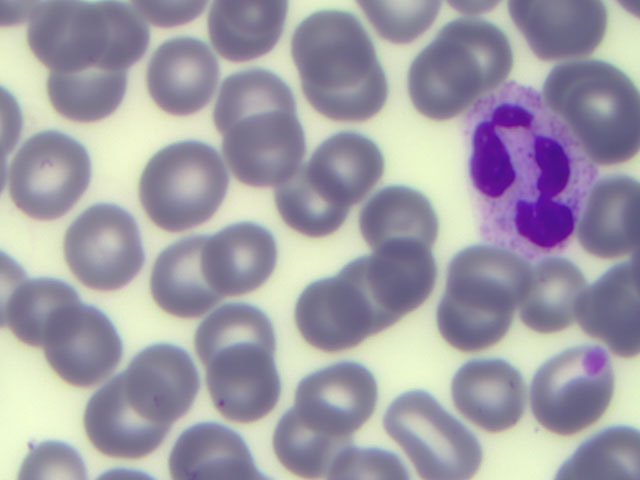RBC: (73, 209, 144, 301), (390, 402, 478, 476), (309, 51, 389, 127), (140, 148, 219, 222), (81, 385, 163, 456), (193, 311, 275, 380), (205, 348, 278, 425), (224, 70, 296, 147), (49, 308, 119, 385), (278, 161, 349, 234), (19, 139, 86, 216), (150, 40, 217, 117), (165, 424, 257, 480), (300, 10, 366, 88), (294, 280, 366, 351), (549, 63, 633, 122), (446, 250, 525, 312), (206, 221, 276, 290), (151, 241, 215, 316), (130, 347, 197, 418), (570, 86, 640, 153), (364, 192, 440, 253), (280, 411, 349, 477), (440, 23, 509, 88), (437, 282, 508, 345), (51, 56, 119, 121), (462, 362, 526, 430), (230, 123, 301, 184), (314, 135, 381, 199), (413, 44, 470, 119), (340, 260, 401, 330), (524, 259, 585, 329), (526, 1, 602, 57), (17, 286, 84, 348), (576, 278, 640, 342), (381, 239, 436, 313), (302, 372, 373, 429), (527, 360, 585, 429), (32, 2, 93, 64), (89, 2, 141, 69), (206, 1, 281, 47), (598, 181, 640, 260), (572, 434, 640, 480), (20, 437, 85, 480), (341, 451, 422, 480), (363, 1, 431, 35), (139, 1, 195, 29)
WBC: (470, 99, 590, 248)
